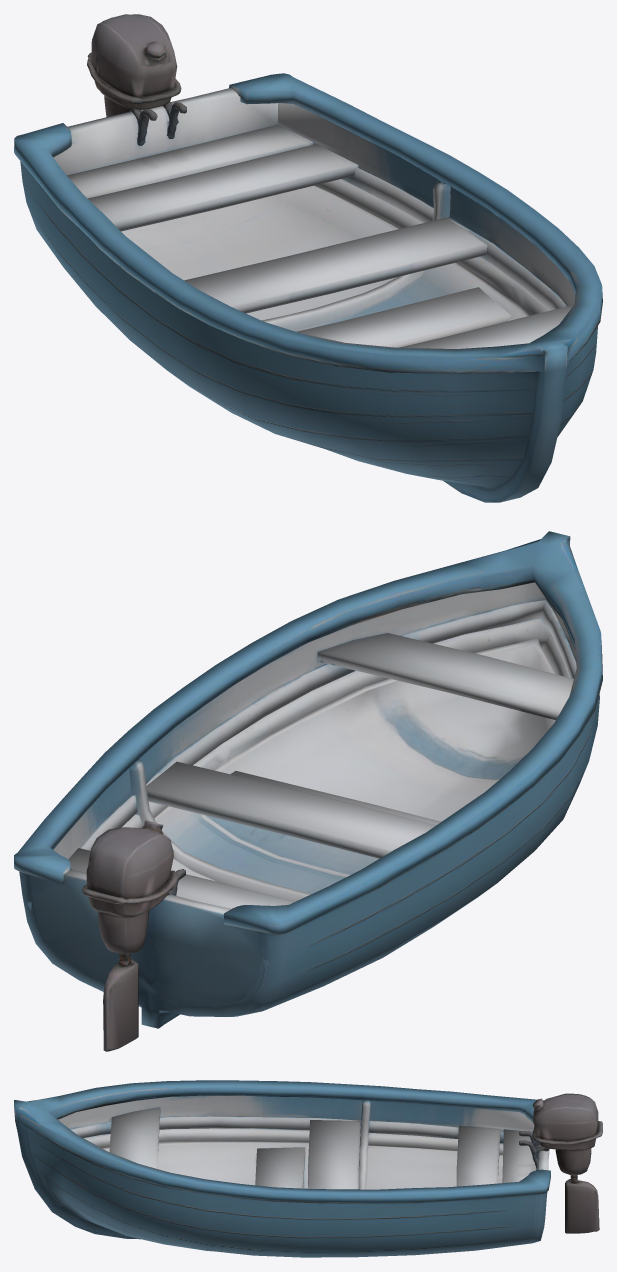
File: original_glb.glb
The picture shows the model from 3 angles, top to bottom: view 1: azimuth 30°, elevation 25°; view 2: azimuth 150°, elevation 25°; view 3: azimuth 270°, elevation 25°; orthographic projection. The views are drawn at different scales.
Parts seen in each view (by area): view 1: Dinghy; view 2: Dinghy; view 3: Dinghy.
Boxes of the visible parts, box(x1,y1,x2,y2) form: Dinghy: box(14, 14, 602, 502); Dinghy: box(14, 531, 602, 1051); Dinghy: box(14, 1080, 602, 1257).
Size of the model in its own units: 0.4512 by 0.2637 by 0.998.
Materials: 1 (1 with a texture image).
